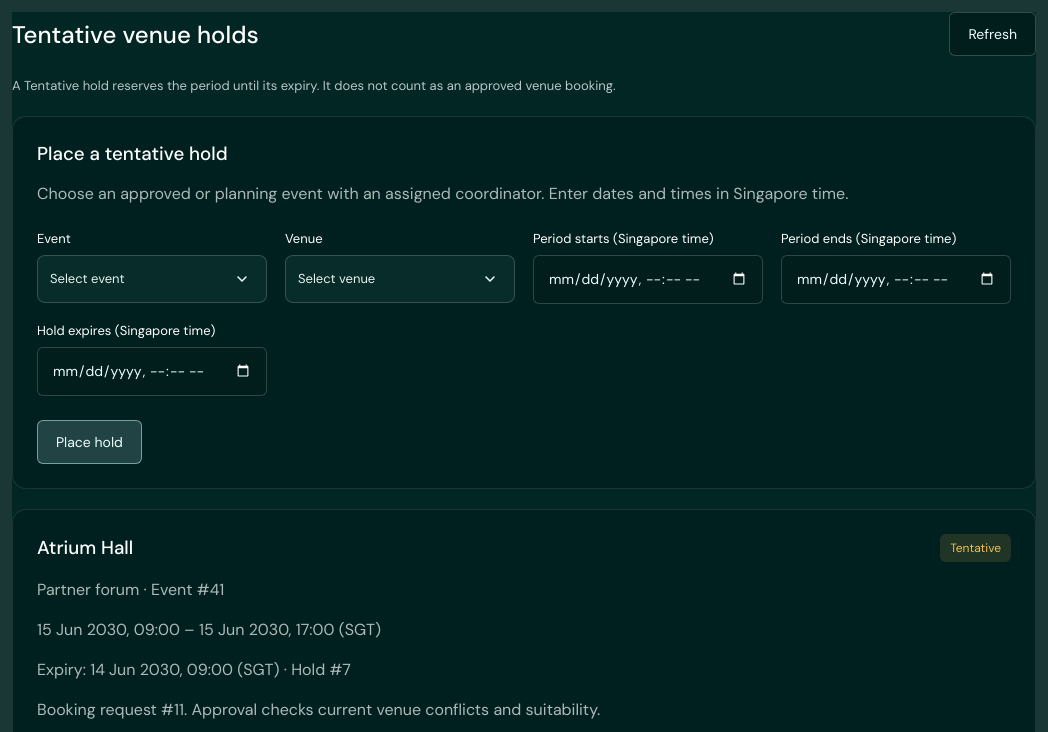
Test: [CONFLICT] [SG2-84:AC3] overlap errors preserve the filled form and existing hold
Expected: the text "Partner forum · Event #41" is shown, [37,578,224,600]
Select "Partner forum · #41" in the dropdown labelled "Event". click: (152, 278)
box: [37,254,267,302]
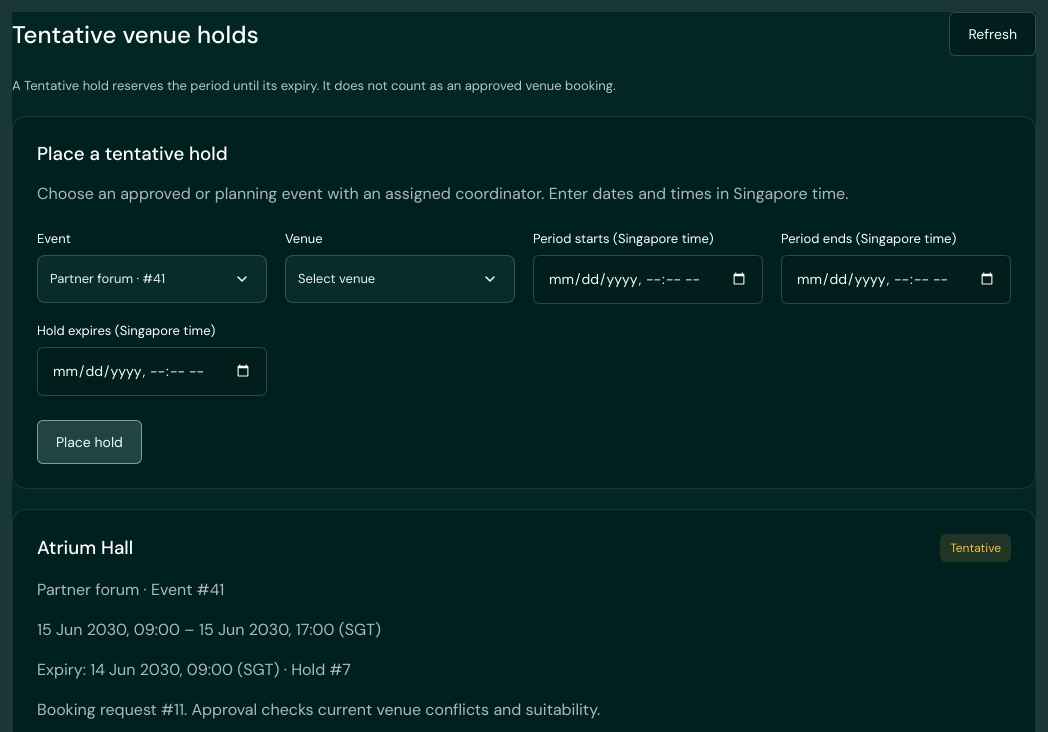
Select "Atrium Hall" in the dropdown labelled "Venue". click: (400, 278)
box: [285,254,515,302]
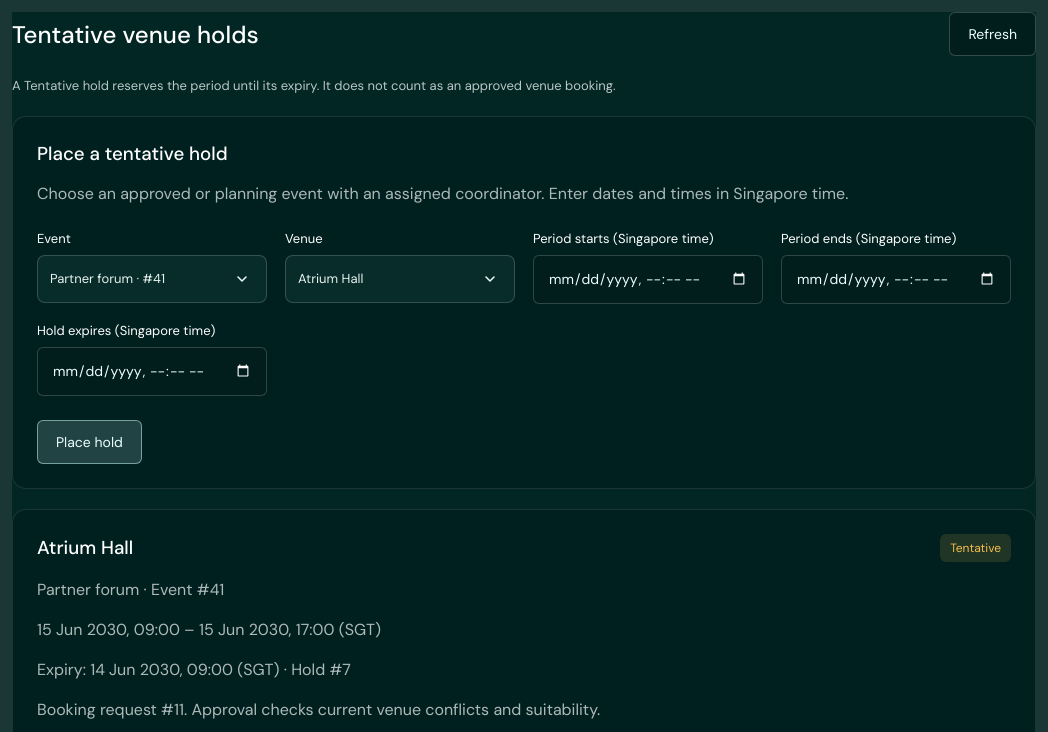
Type "2030-06-15T09:00" into the field labelled "Period starts (Singapore time)". click: (648, 279)
box: [533,254,763,304]
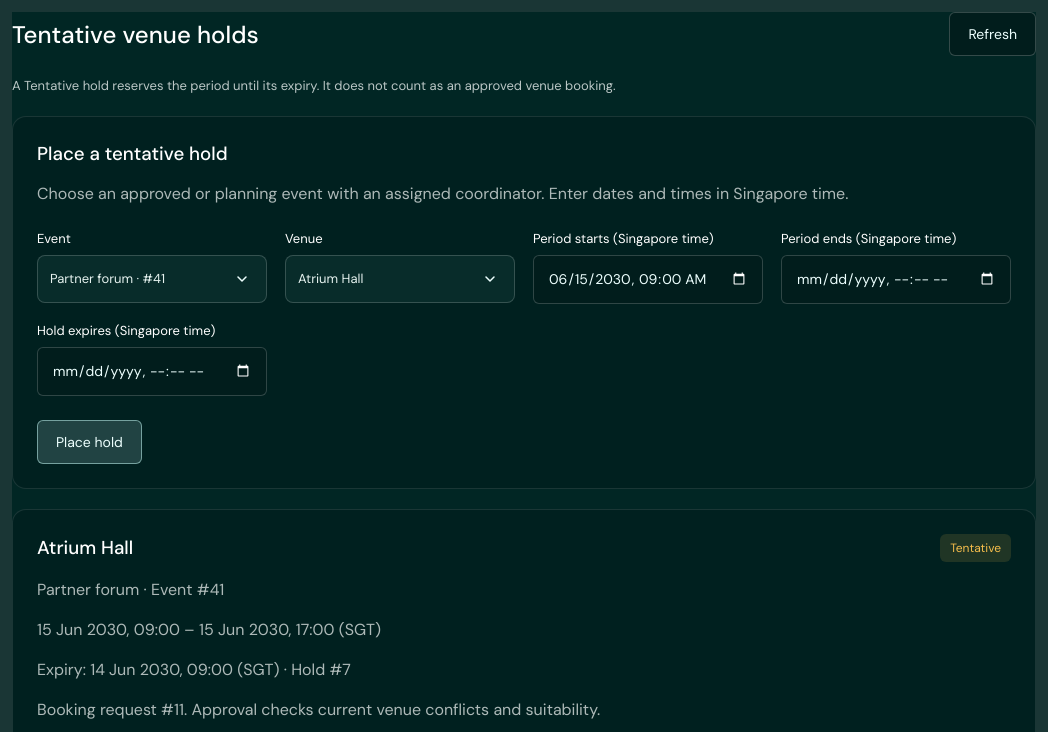
Type "2030-06-15T17:00" into the field labelled "Period ends (Singapore time)". click: (896, 279)
box: [781,254,1011,304]
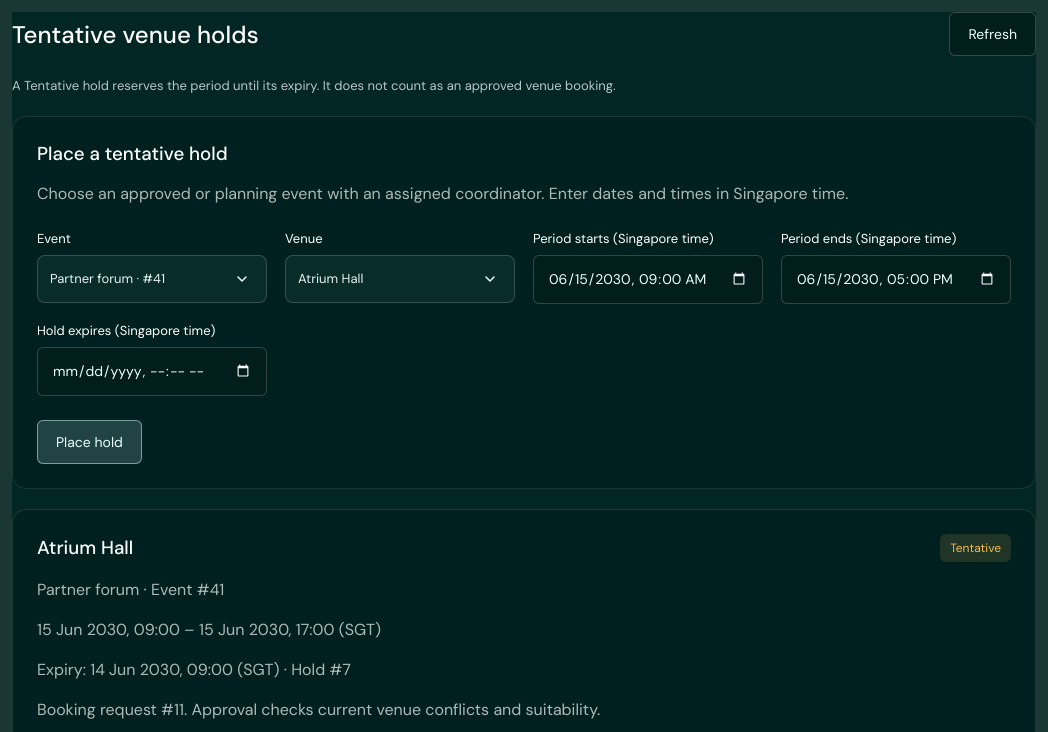
Type "2030-06-14T09:00" into the field labelled "Hold expires (Singapore time)". click: (152, 371)
box: [37,346,267,396]
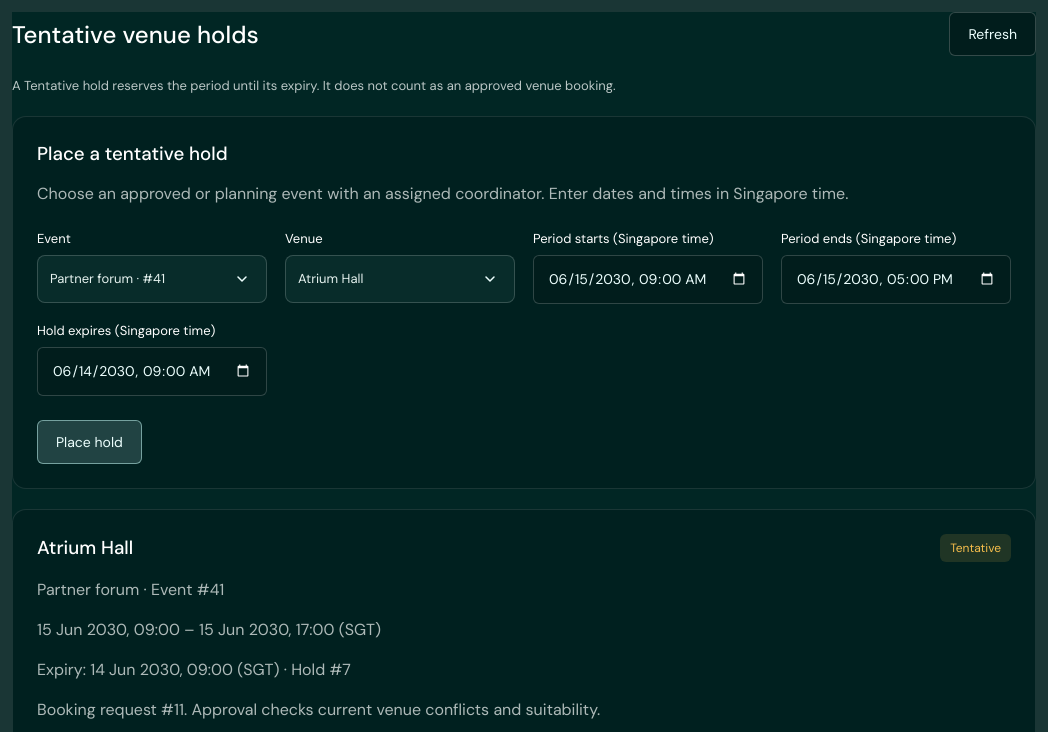
Submit the form "Place a tentative hold", box [12,116,1036,488]
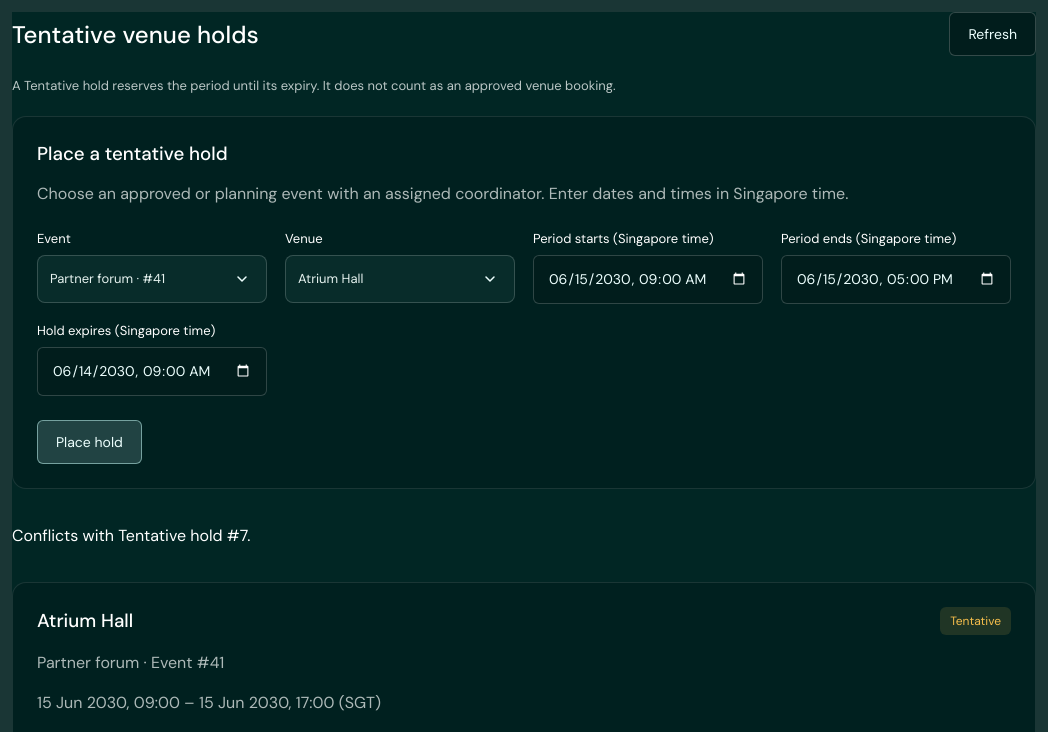
Expected: the message reads "Conflicts with Tentative hold #7.", [12,524,250,546]
